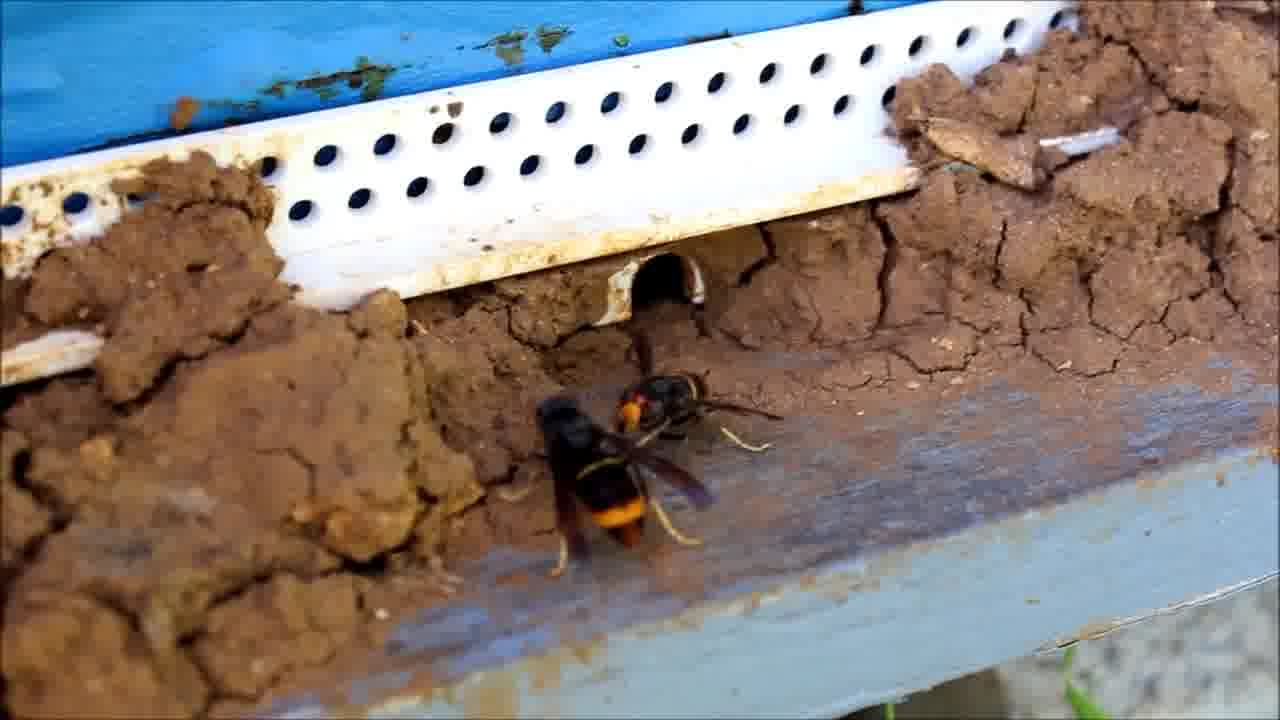hornet: (515, 395, 704, 563), (608, 370, 736, 447)
